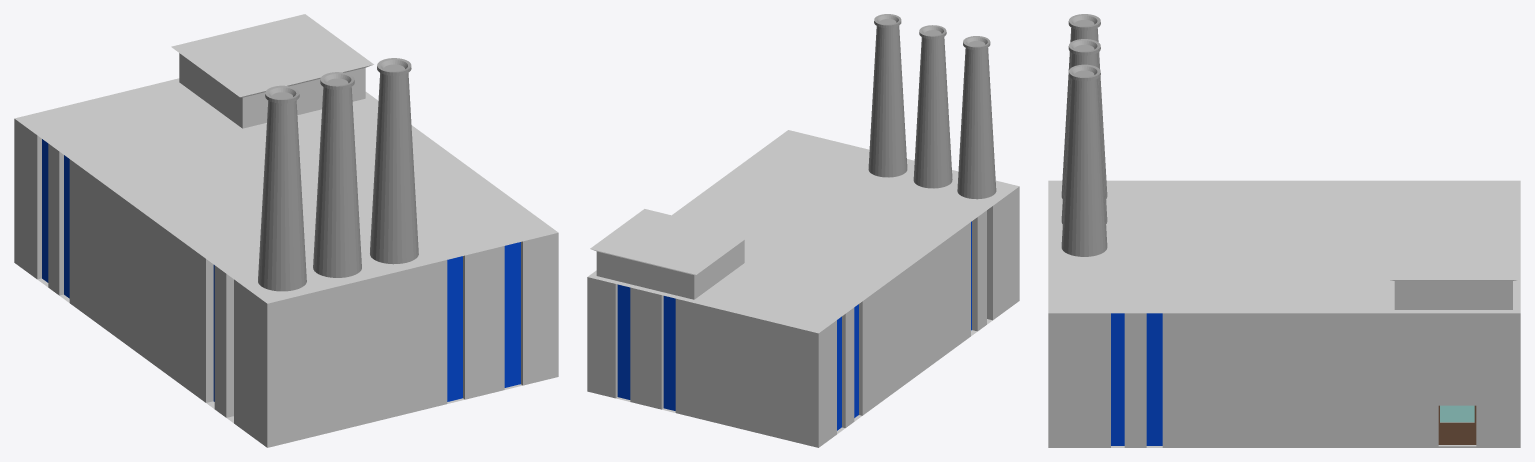
The model's file is powerplant.fbx.
3 views of the same model, side by side, from view 1: azimuth 30°, elevation 25°; view 2: azimuth 150°, elevation 25°; view 3: azimuth 270°, elevation 25° (orthographic). The views are drawn at different scales.
Parts seen in each view (by area): view 1: Cube, Cylinder.002, Cylinder.001, Cylinder; view 2: Cube, Cylinder.002, Cylinder.001, Cylinder; view 3: Cube, Cylinder.002, Cylinder.001, Cylinder.
Part boxes in pixels (x1,y1,x2,y2): Cube: [14, 14, 558, 447]; Cylinder.002: [370, 58, 418, 264]; Cylinder.001: [313, 72, 361, 277]; Cylinder: [258, 85, 306, 291]; Cube: [587, 130, 1019, 447]; Cylinder.002: [868, 14, 907, 177]; Cylinder.001: [913, 25, 952, 188]; Cylinder: [957, 36, 996, 199]; Cube: [1048, 180, 1520, 447]; Cylinder.002: [1061, 64, 1107, 256]; Cylinder.001: [1061, 39, 1107, 223]; Cylinder: [1061, 14, 1107, 198].
Size of the model in its own units: 84.99 by 92.75 by 128.
